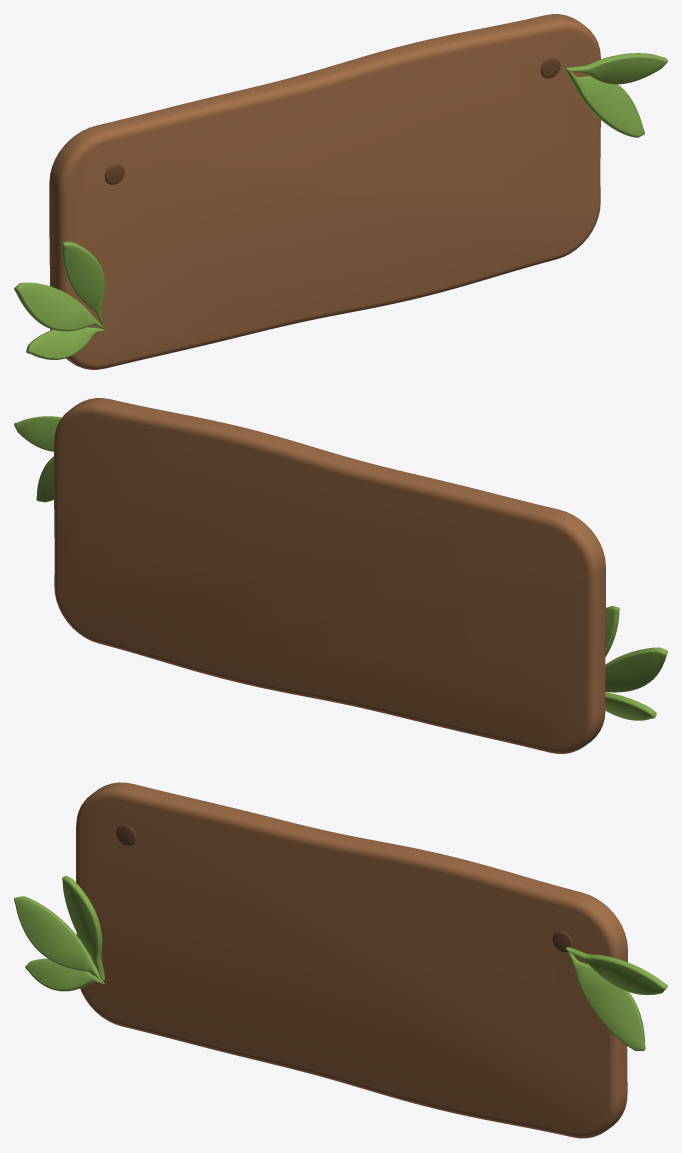
Rendered from title_sign.glb.
The picture shows the model from 3 angles, top to bottom: view 1: azimuth 30°, elevation 25°; view 2: azimuth 150°, elevation 25°; view 3: azimuth 330°, elevation 25°; orthographic projection.
Parts seen in each view (by area): view 1: Sign_Plank, Sign_Leaves, Sign_Screws; view 2: Sign_Plank, Sign_Leaves; view 3: Sign_Plank, Sign_Leaves, Sign_Screws.
Part boxes in pixels (x1,y1,x2,y2): Sign_Plank: (49,14,600,369); Sign_Leaves: (14,53,667,359); Sign_Screws: (104,57,560,184); Sign_Plank: (54,398,605,753); Sign_Leaves: (14,416,667,720); Sign_Plank: (76,782,627,1138); Sign_Leaves: (14,876,667,1051); Sign_Screws: (116,824,572,952).
Bounding box in the file's own units: 2.27 × 0.8269 × 0.1593.
